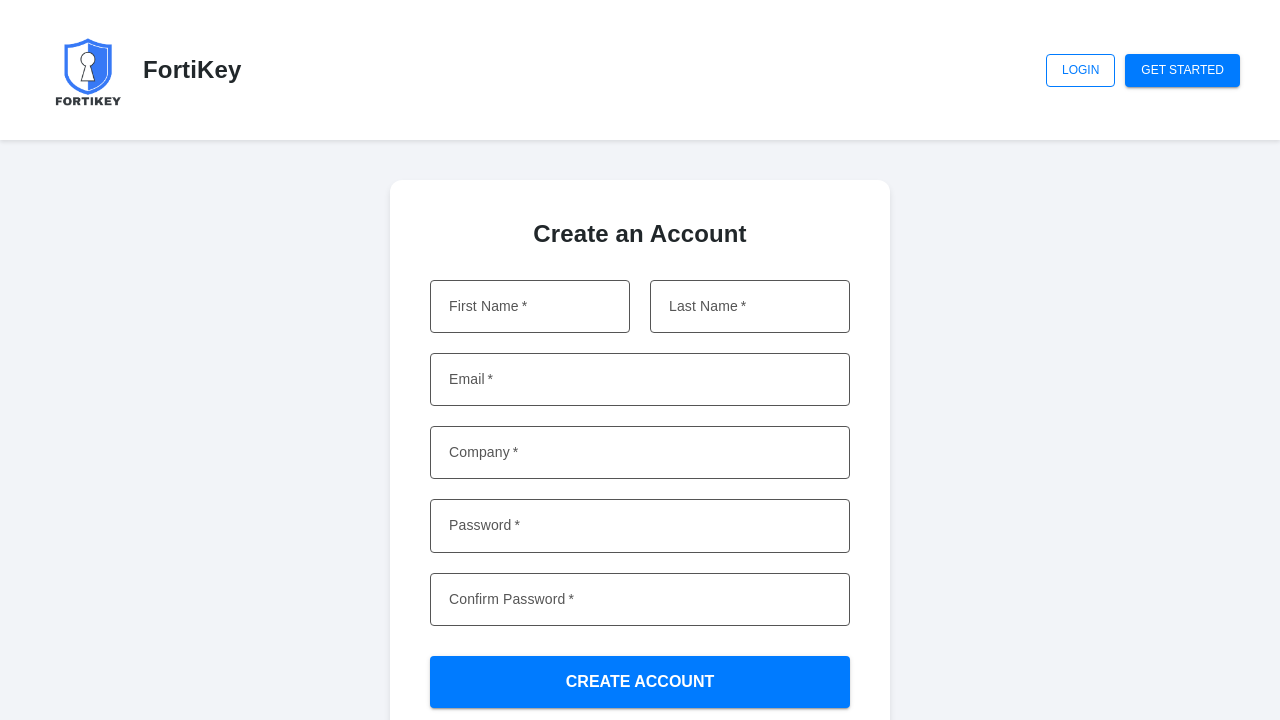
CreateUser Component › shows error when passwords do not match
// Fill out the form with mismatched passwords
Type "John" into the field named "firstName" at x=530, y=307, box [430,280,630,333]
Type "Doe" into the field named "lastName" at x=750, y=307, box [650,280,850,333]
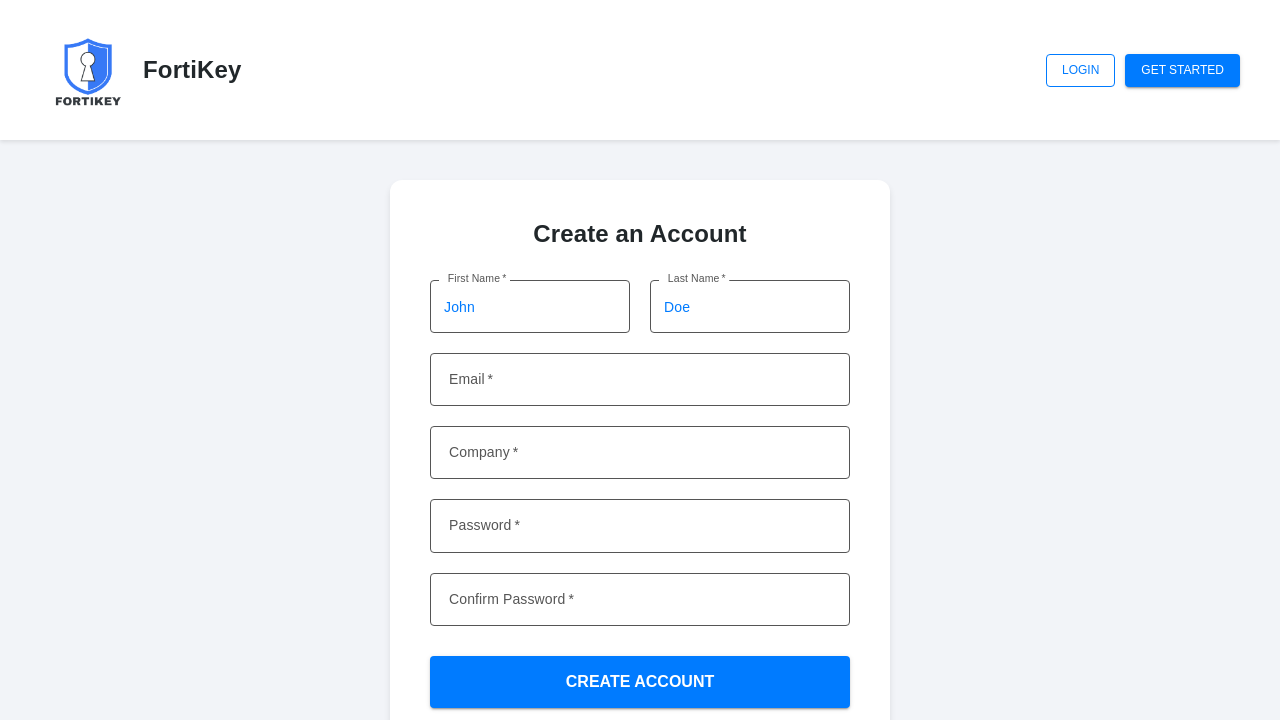
Type "john@example.com" into the field named "email" at x=640, y=380, box [430,353,850,406]
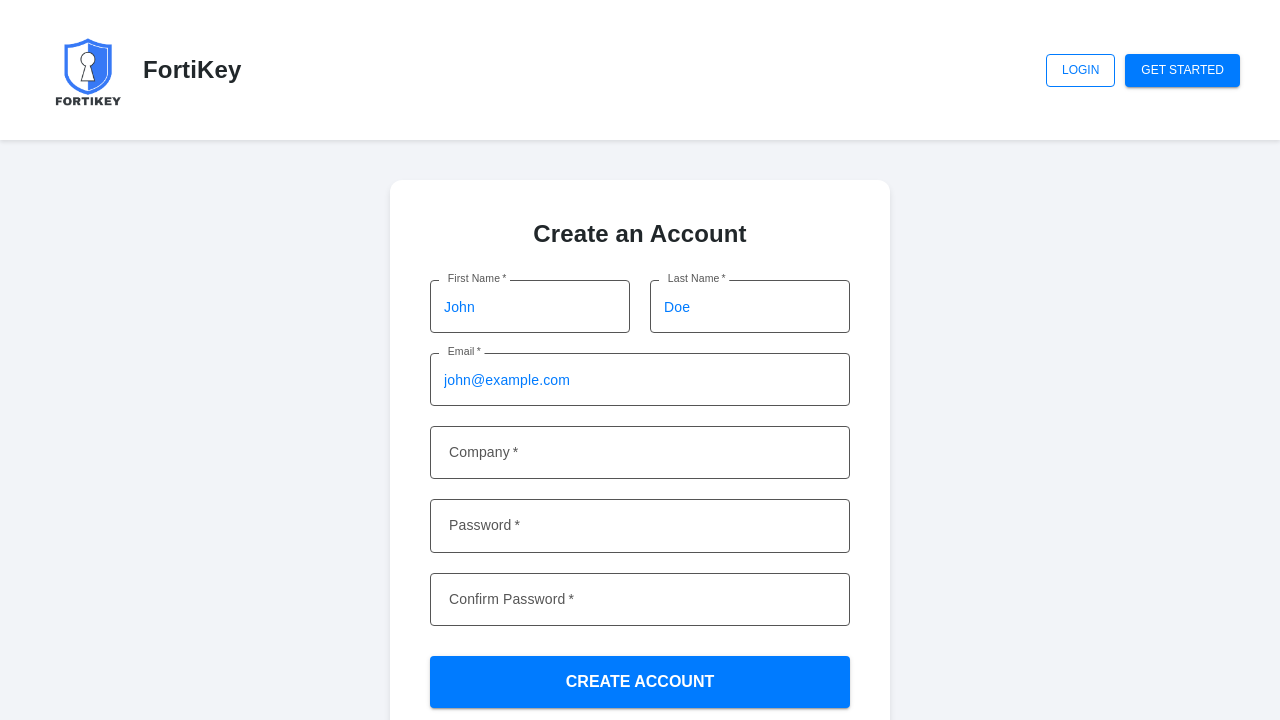
// Get all password fields and use the first one (the password field)
Type "Password123!" into the password field named "password" at x=640, y=526, box [430,499,850,552]
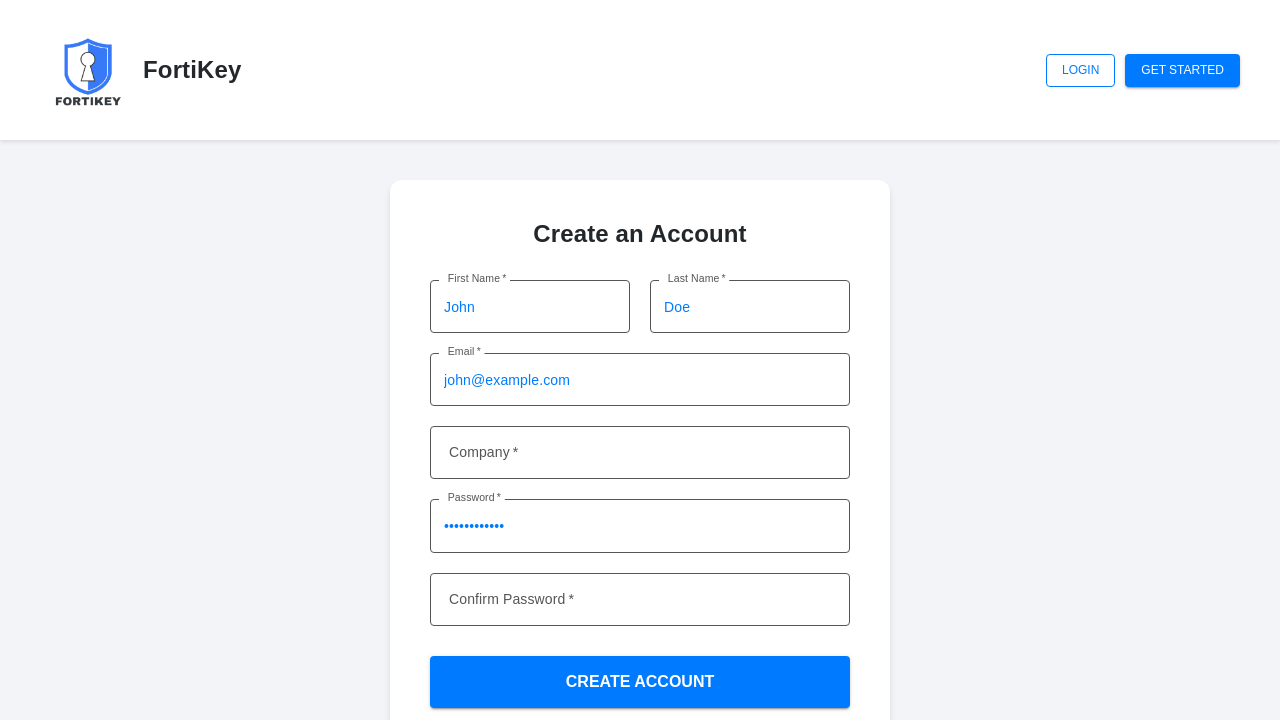
// Use specific label for confirm password
Type "DifferentPassword123!" into the password field named "confirmPassword" at x=640, y=599, box [430,572,850,626]
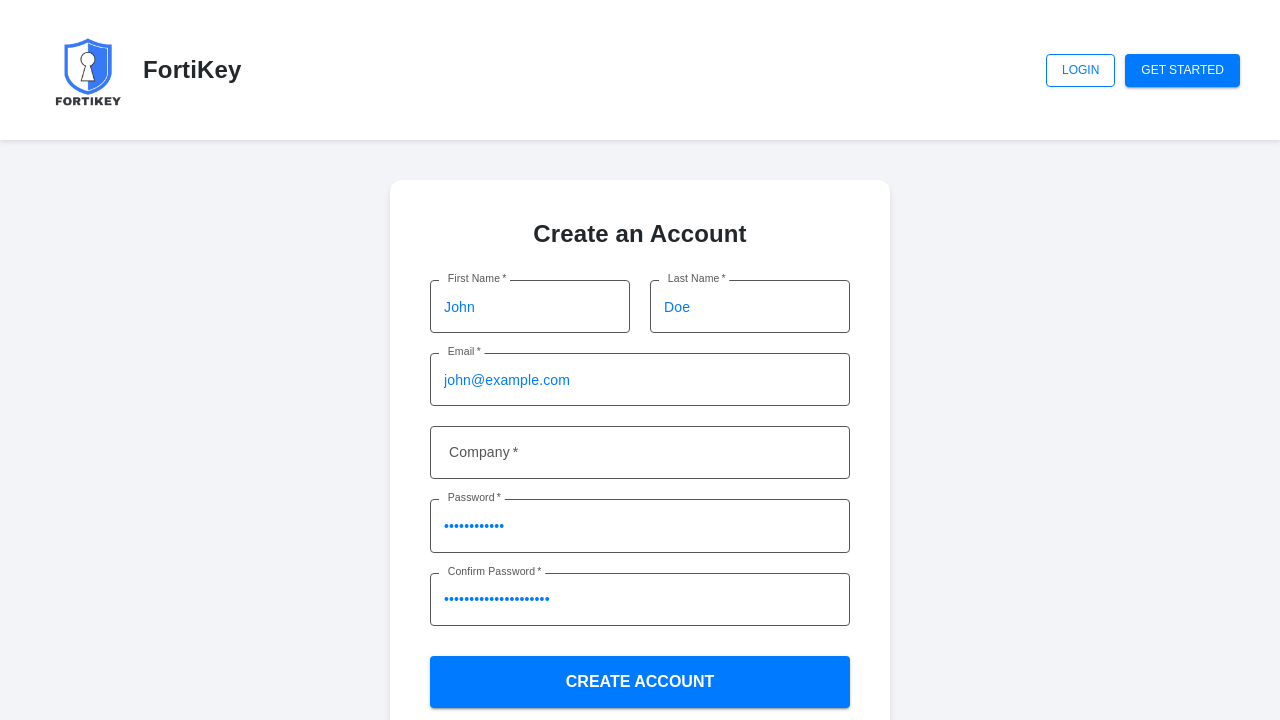
Type "Test Company" into the field named "company" at x=640, y=453, box [430,426,850,479]
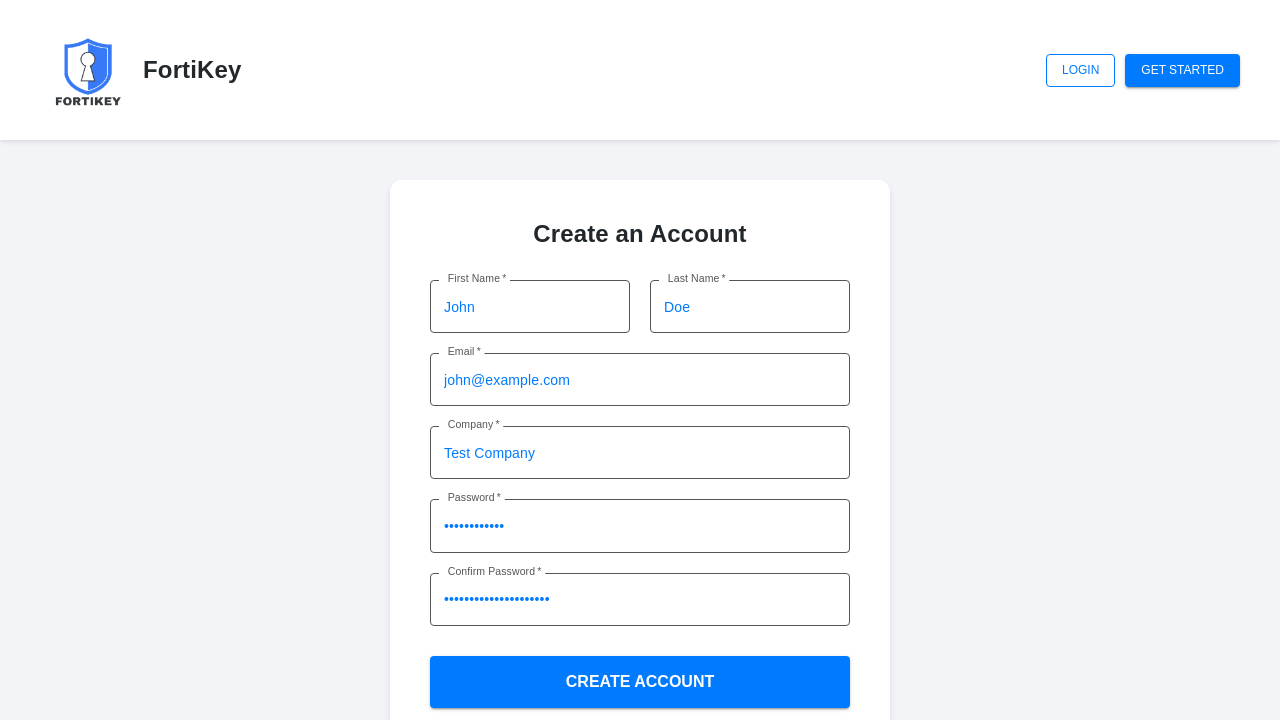
// Submit the form
Click the button "Create Account" at x=640, y=682, box [430,656,850,708]
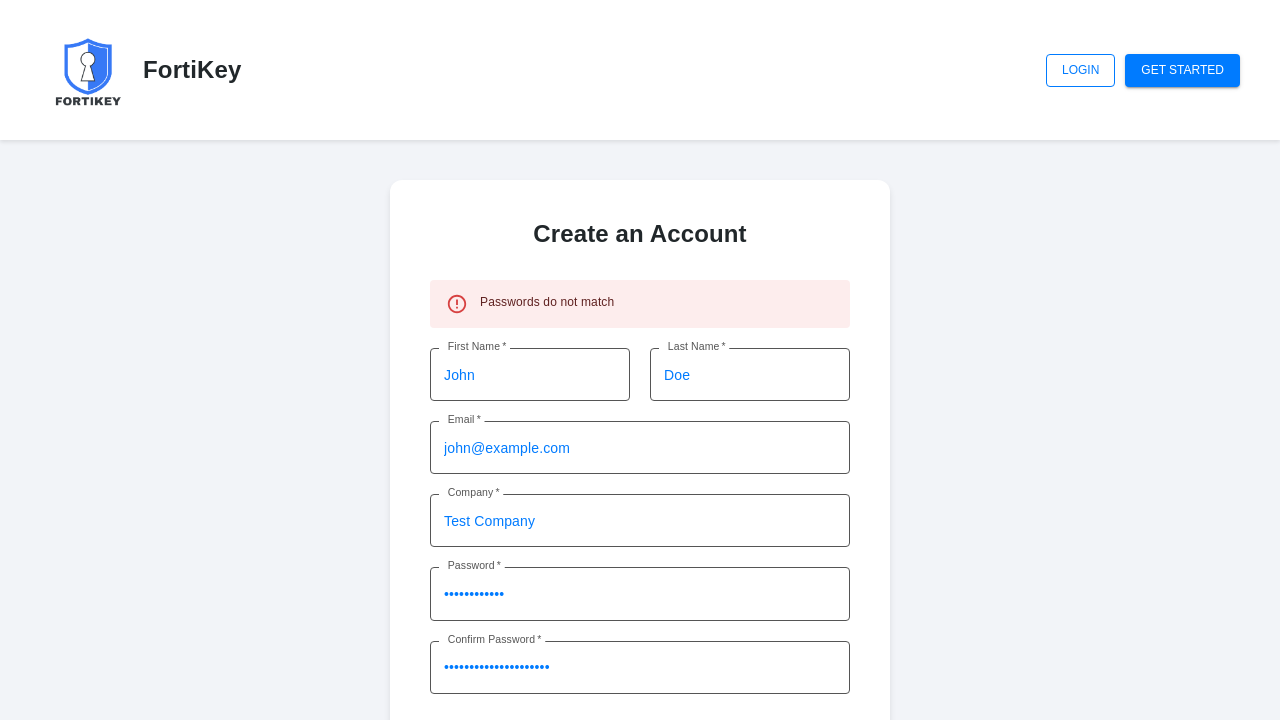
Now the text "Passwords do not match" is shown, box [480,295,614,309]
